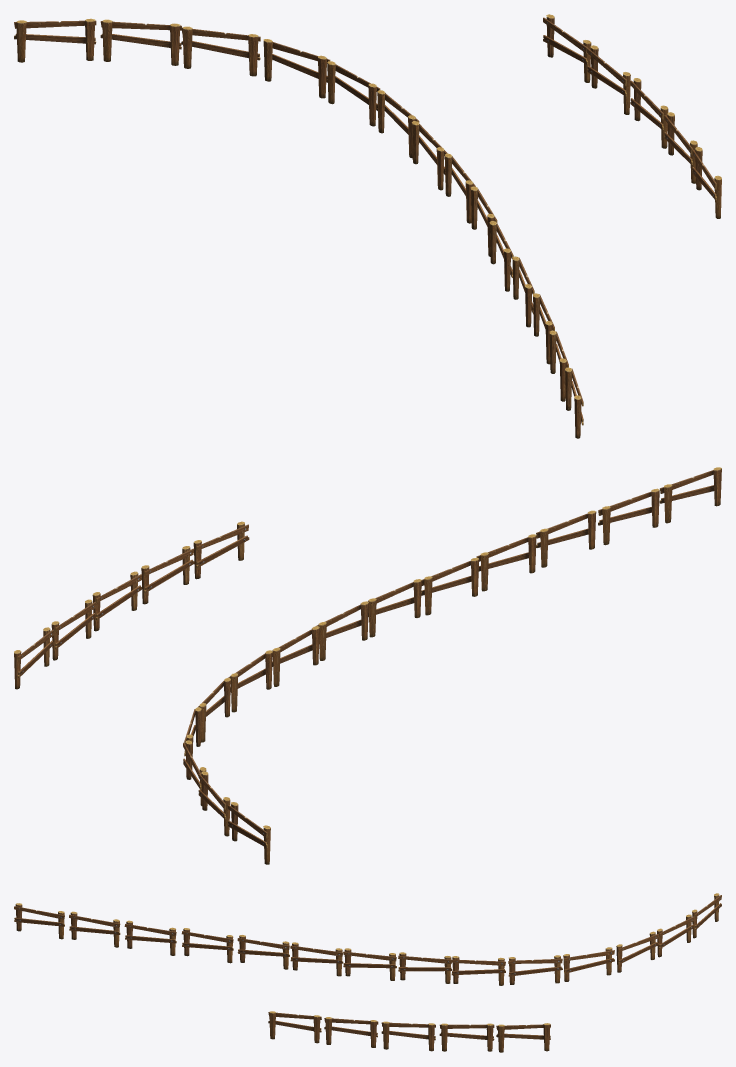
The model's file is Area_08_32.fbx.
3 views of the same model, one above another, from view 1: azimuth 30°, elevation 25°; view 2: azimuth 150°, elevation 25°; view 3: azimuth 270°, elevation 25° (orthographic). The views are drawn at different scales.
Visible parts, largest first — view 1: Area_08_32; view 2: Area_08_32; view 3: Area_08_32.
Boxes of the visible parts, box(x1,y1,x2,y2) form: Area_08_32: box(14, 14, 721, 438); Area_08_32: box(14, 467, 721, 864); Area_08_32: box(14, 893, 721, 1052).
Size of the model in its own units: 1504 by 143 by 3377.
